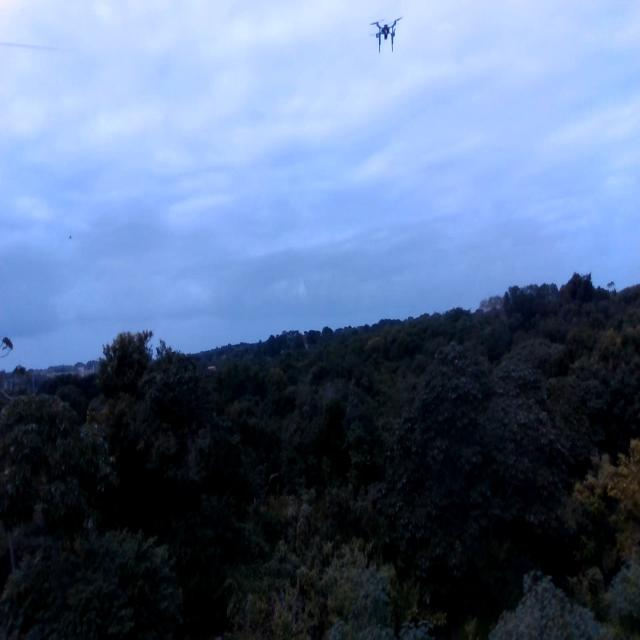-uav-: (368, 15, 404, 55)
